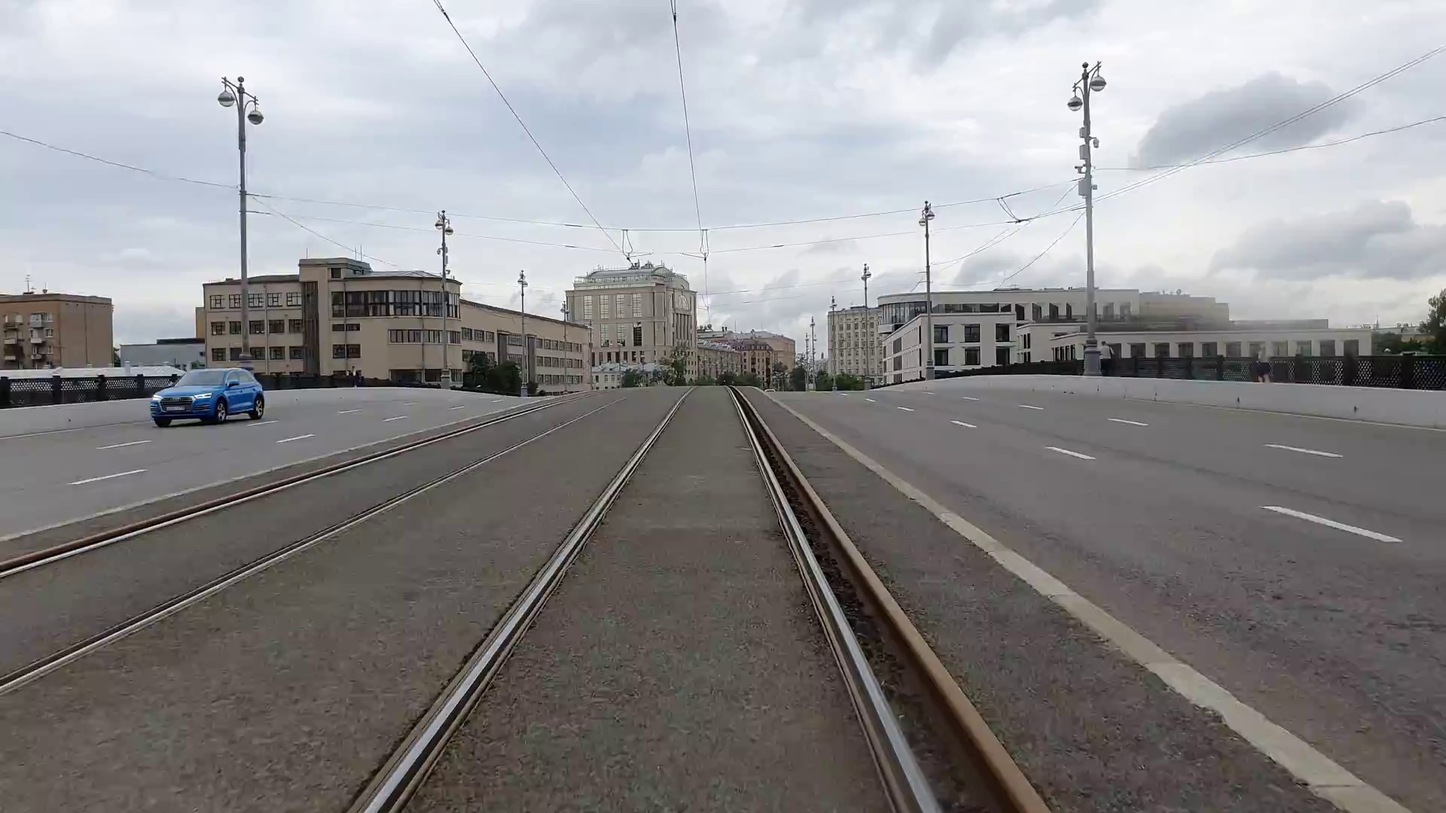acesa: (1415, 182, 1445, 228)
